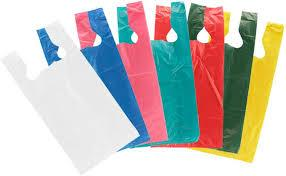Plastic bag: (72, 2, 280, 169), (4, 29, 134, 173), (47, 6, 149, 150)
